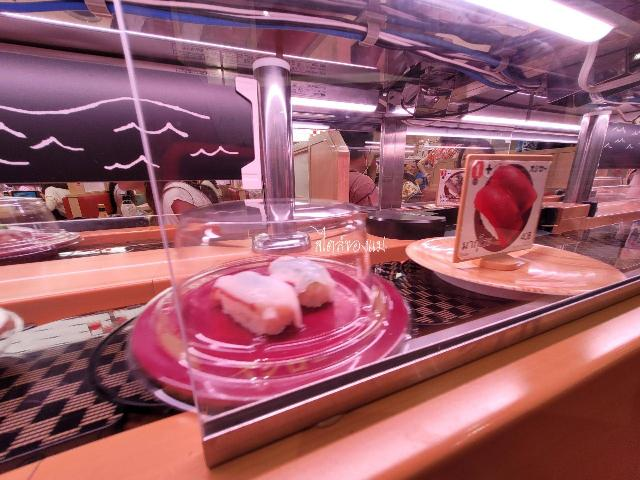janred: (135, 273, 425, 399)
